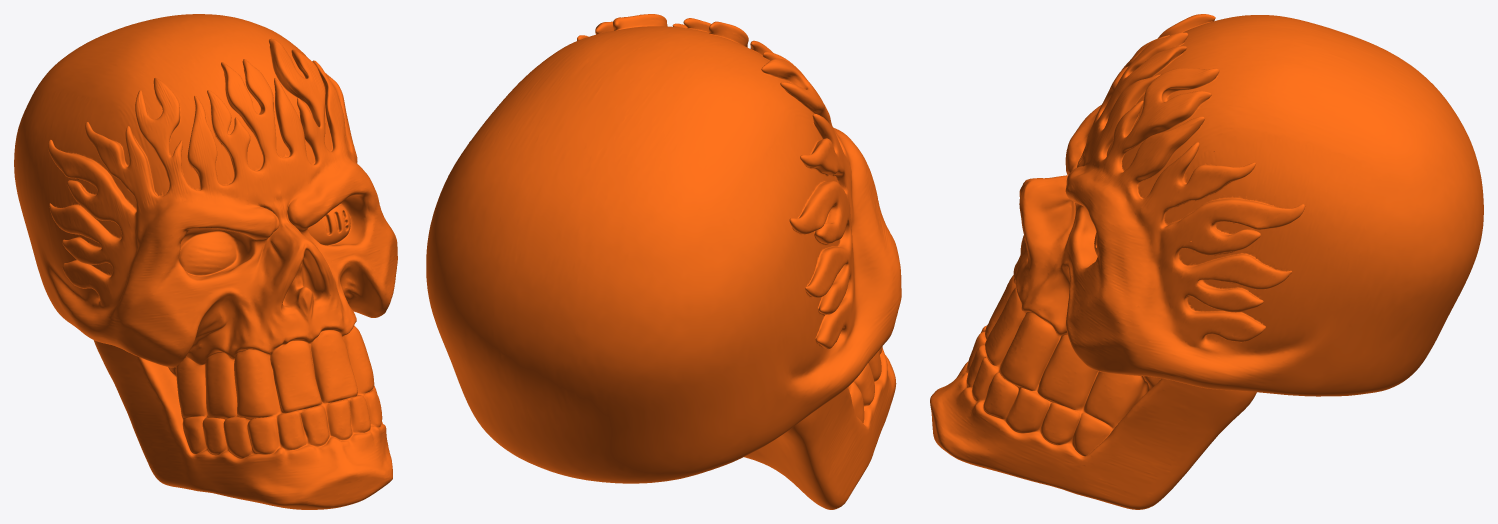
File: skull.glb
3 views of the same model, side by side, from view 1: azimuth 30°, elevation 25°; view 2: azimuth 150°, elevation 25°; view 3: azimuth 270°, elevation 25° (orthographic). The views are drawn at different scales.
Visible parts, largest first — view 1: skull; view 2: skull; view 3: skull.
Part boxes in pixels (bbox=[...]): skull: bbox=[14, 14, 397, 509]; skull: bbox=[426, 14, 901, 509]; skull: bbox=[930, 14, 1483, 509].
Bounding box in the file's own units: 16.38 × 22.09 × 25.94.
